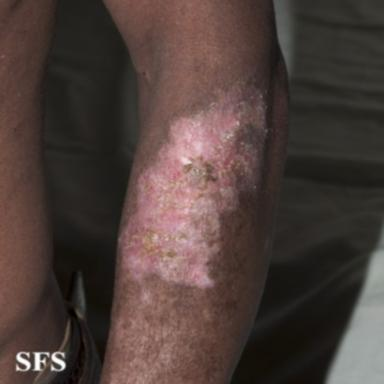Lupus-Erythematosus-Chronicus-Discoides: (122, 91, 270, 290)
